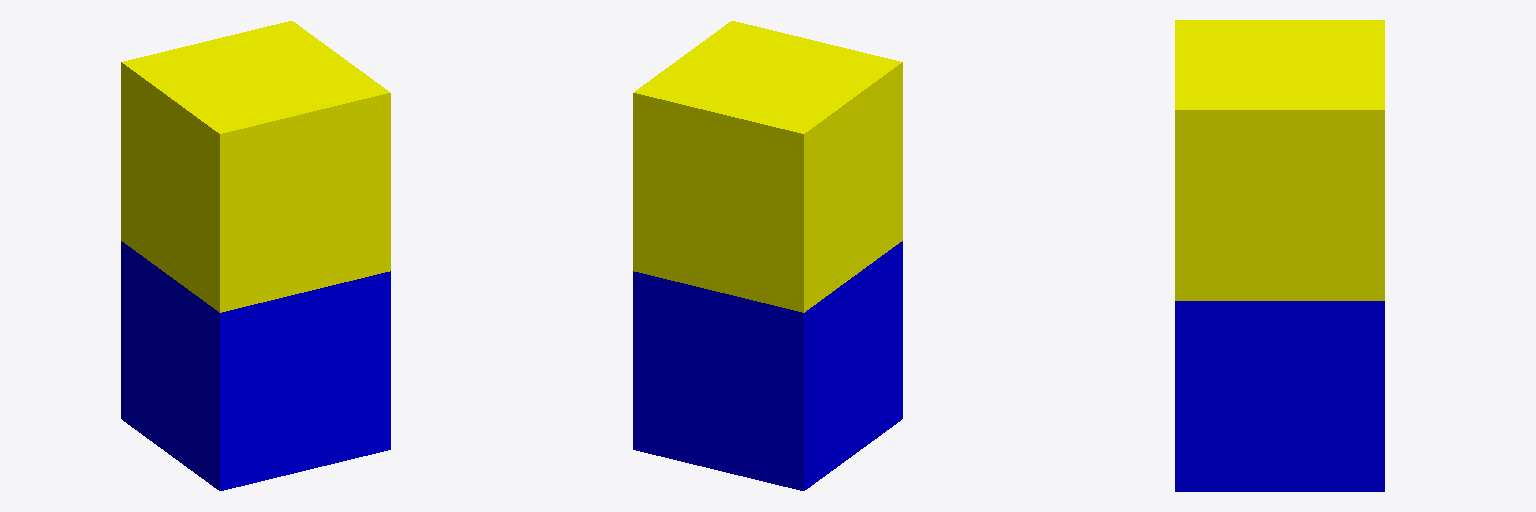
The robot description file, URDF, robot "simple_robot":
<?xml version="1.0" ?>
<robot name="simple_robot">

  <!-- 机械部分 -->
  <link name="base_link">
    <visual>
      <geometry>
        <box size="0.1 0.1 0.1"/>
      </geometry>
      <origin xyz="0 0 0.05" rpy="0 0 0"/>
      <material name="blue">
        <color rgba="0 0 1 1"/> <!-- 蓝色 -->
      </material>
    </visual>
  </link>
  <link name="link1">
    <visual>
      <geometry>
        <box size="0.1 0.1 0.1"/>
      </geometry>
      <origin xyz="0 0 0.05" rpy="0 0 0"/>
      <material name="yellow">
        <color rgba="1 1 0 1"/> <!-- 黄色 -->
      </material>
    </visual>
  </link>

  <!-- 关节部分 -->
  <joint name="joint1" type="revolute">
    <parent link="base_link"/>
    <child link="link1"/>
    <origin xyz="0 0 0.1" rpy="0 0 0"/>
    <axis xyz="0 0 1"/>
    <limit effort="10" lower="-1.57" upper="1.57" velocity="1.0"/>  <!-- 限制关节的旋转角度 -->
  </joint>
</robot>

--- Render facts (derived) ---
3 views of the same robot in one strip: view 1: azimuth 30°, elevation 25°; view 2: azimuth 150°, elevation 25°; view 3: azimuth 270°, elevation 25° (orthographic).
Model simple_robot with 2 links and 1 joints (1 revolute), rooted at base_link, posed every joint at zero.
Visible links, largest first — view 1: link1, base_link; view 2: link1, base_link; view 3: link1, base_link.
Boxes of the visible links, x1,y1,x2,y2 form: link1: (121,21,390,312); base_link: (121,241,390,490); link1: (633,21,902,312); base_link: (633,241,902,490); link1: (1175,20,1384,300); base_link: (1175,301,1384,491).
Size in the robot's own frame: 0.1 by 0.1 by 0.2 metres.
Geometry: primitives only (box / cylinder / sphere), no mesh files.
